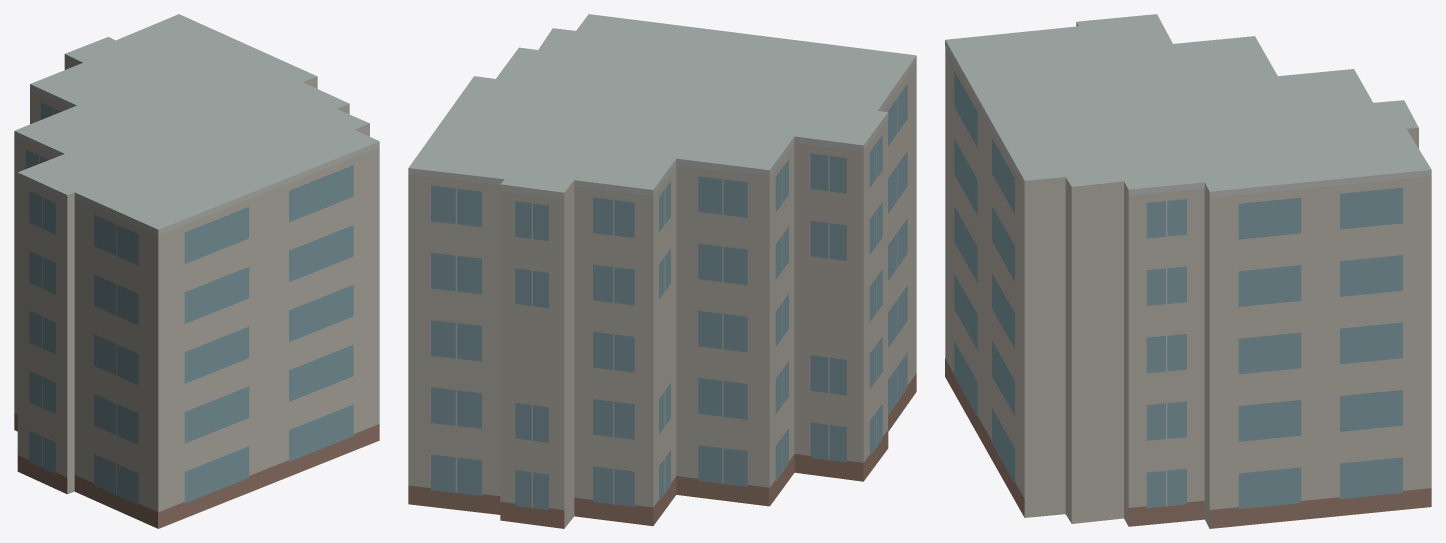
Rendered from survey-upis-32794272.glb.
3 renders of one model, left to right at view 1: azimuth 30°, elevation 25°; view 2: azimuth 150°, elevation 25°; view 3: azimuth 270°, elevation 25°, orthographic. The views are drawn at different scales.
Parts seen in each view (by area): view 1: survey-upis-32794272.tmp; view 2: survey-upis-32794272.tmp; view 3: survey-upis-32794272.tmp.
Part boxes in pixels (bbox=[...]): survey-upis-32794272.tmp: bbox=[14, 14, 379, 528]; survey-upis-32794272.tmp: bbox=[408, 14, 916, 528]; survey-upis-32794272.tmp: bbox=[945, 14, 1431, 528].
Bounding box in the file's own units: 14.99 × 13.25 × 17.34.
